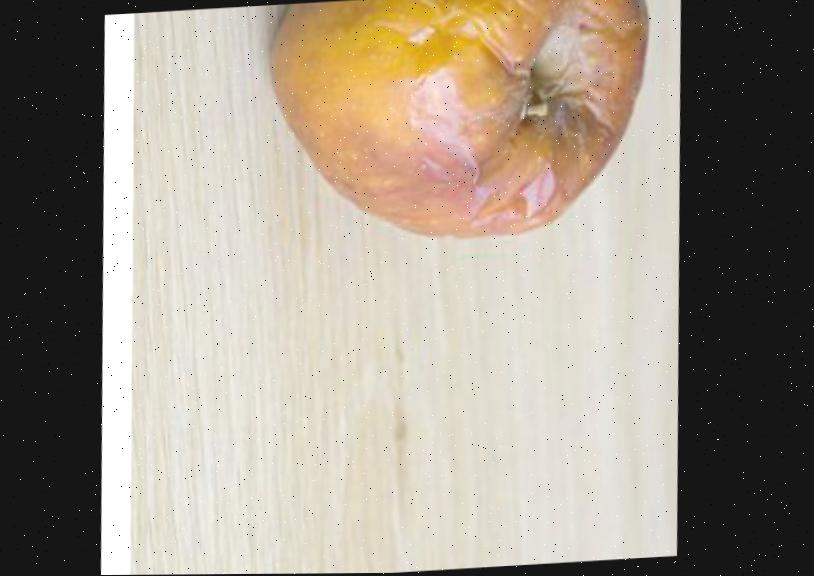ROT: (230, 0, 683, 277)
